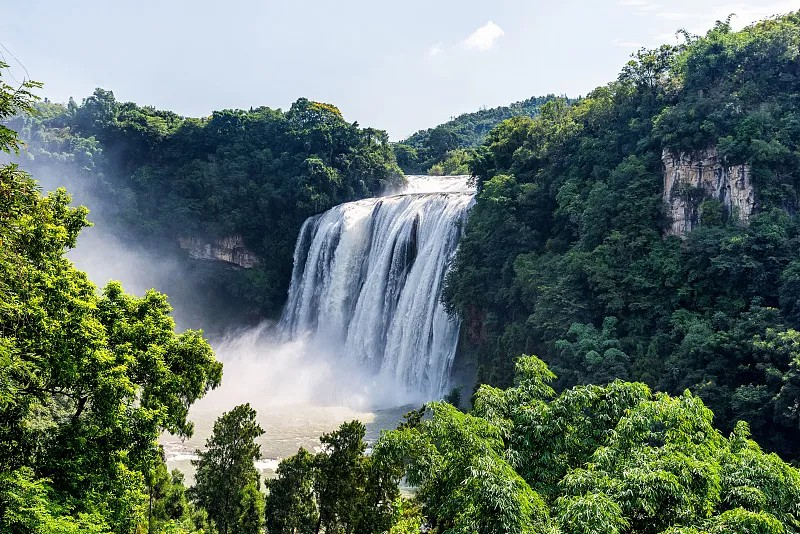Huangguoshu: (286, 175, 478, 397)
